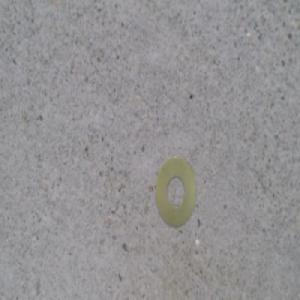Washer: (153, 151, 195, 225)
